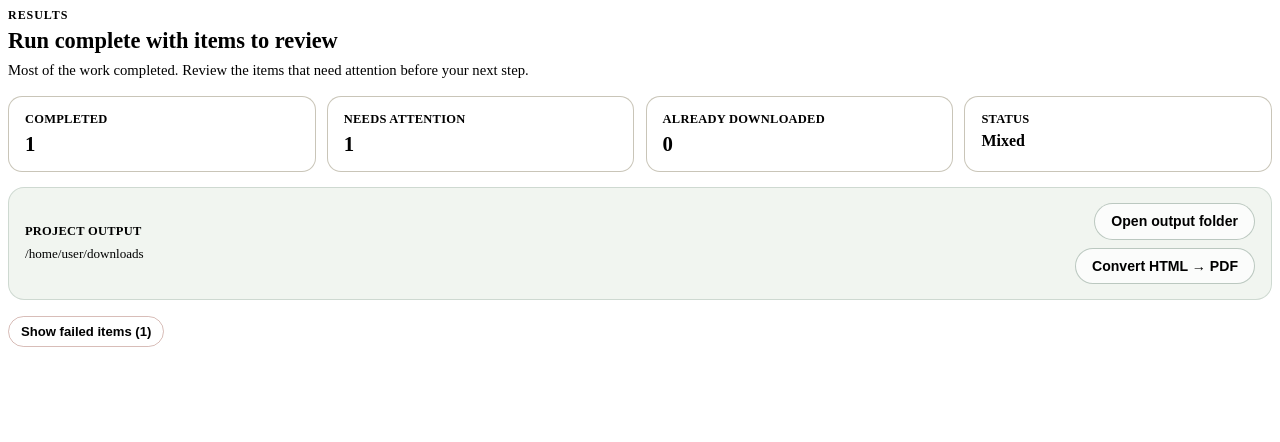
Test case: CompletionSummary › clicking toggle expands to show per-item error details
Expected: the text "HTTP 404 Not Found" is not shown
// Click toggle
Click the button "Show failed items (1)" at (86, 331), box [8,316,164,347]
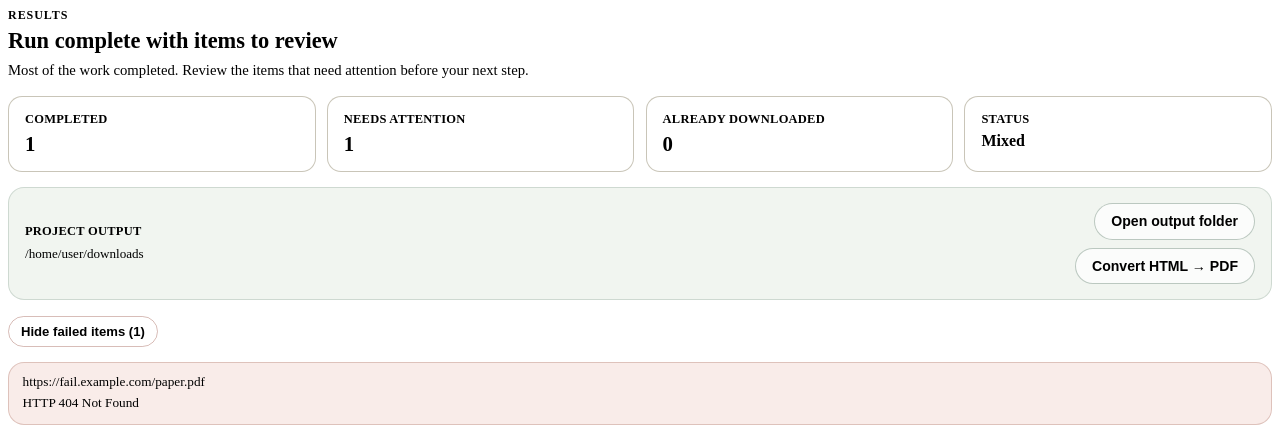
Now the text "HTTP 404 Not Found" is shown, box [23,395,139,410]
Now the text "https://fail.example.com/paper.pdf" is shown, box [23,374,205,389]
Now the button "Hide failed items (1)" is shown, box [8,316,158,347]
